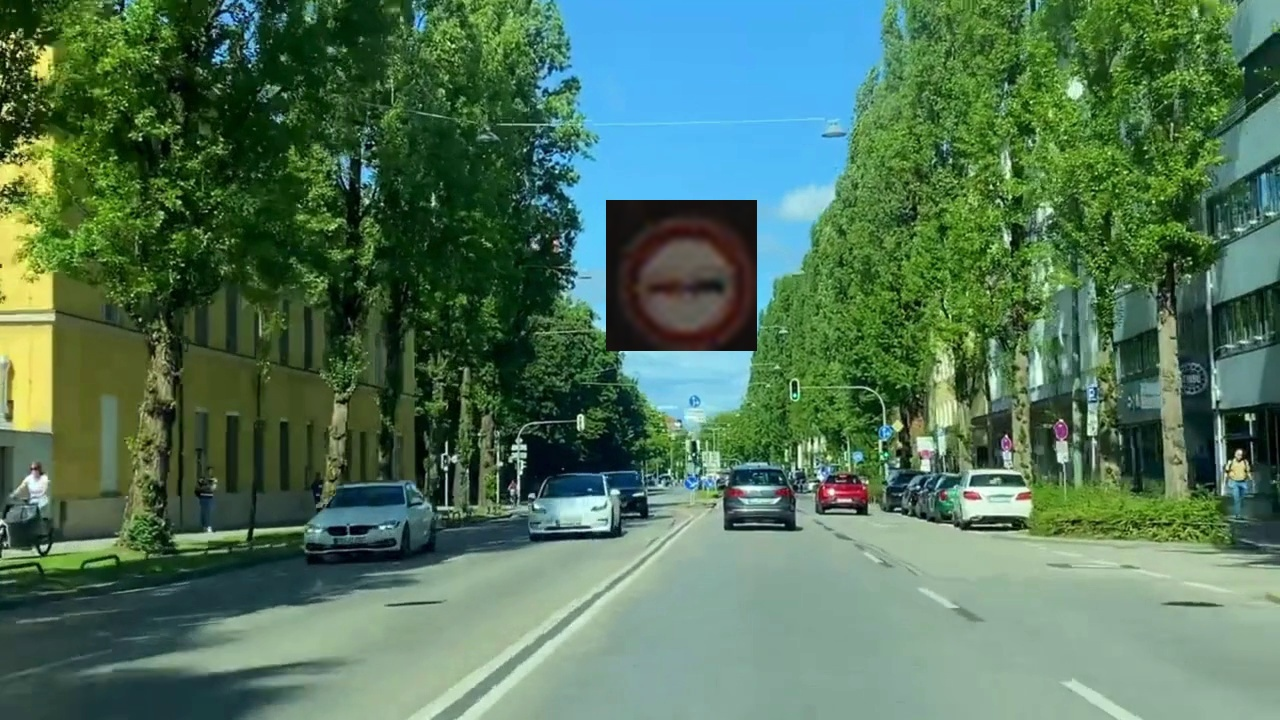No passing: (606, 200, 757, 351)
